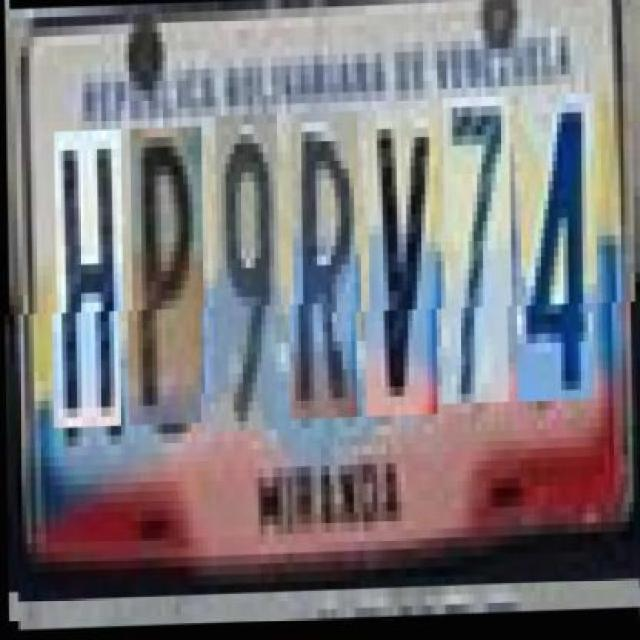4: (518, 98, 598, 405)
7: (442, 100, 512, 408)
9: (215, 117, 280, 434)
h: (54, 130, 124, 428)
p: (130, 128, 204, 426)
r: (290, 114, 361, 421)
v: (366, 112, 442, 419)
